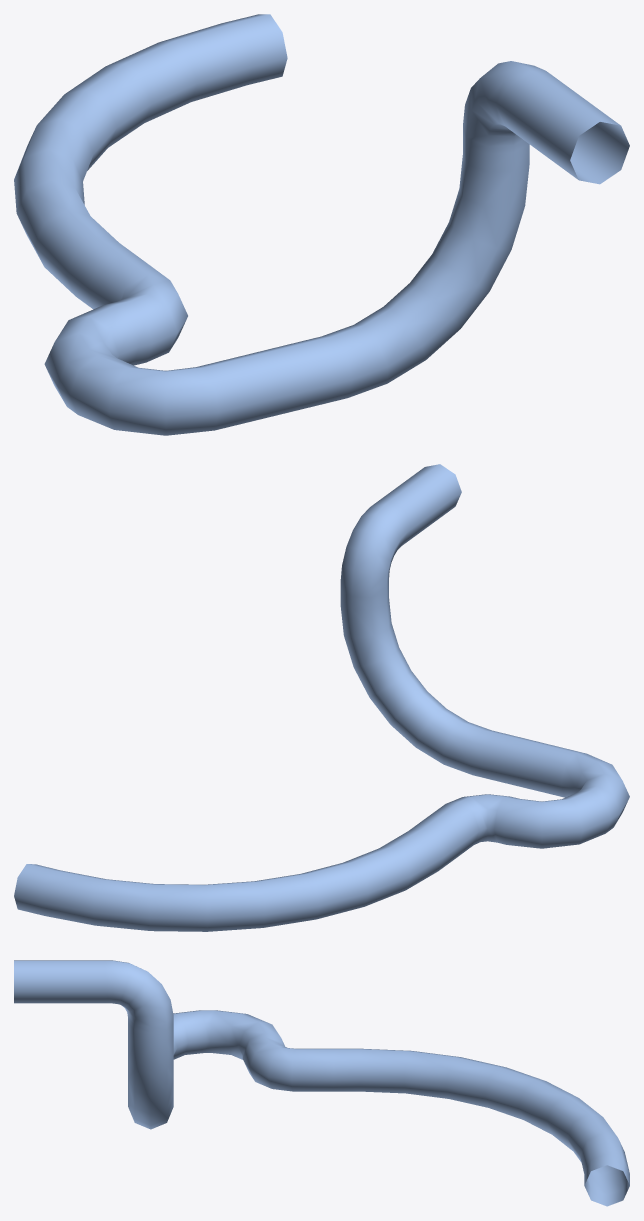
File: PipeComplexSmall_B_05.fbx
3 views of the same model, one above another, from view 1: azimuth 30°, elevation 25°; view 2: azimuth 150°, elevation 25°; view 3: azimuth 270°, elevation 25° (orthographic). The views are drawn at different scales.
Visible parts, largest first — view 1: PipeComplexSmall_B_05.001; view 2: PipeComplexSmall_B_05.001; view 3: PipeComplexSmall_B_05.001.
Part boxes in pixels (x1,y1,x2,y2): PipeComplexSmall_B_05.001: [14, 14, 629, 435]; PipeComplexSmall_B_05.001: [14, 464, 629, 931]; PipeComplexSmall_B_05.001: [14, 960, 629, 1206].
Size of the model in its own units: 0.8496 by 0.5 by 1.35.
